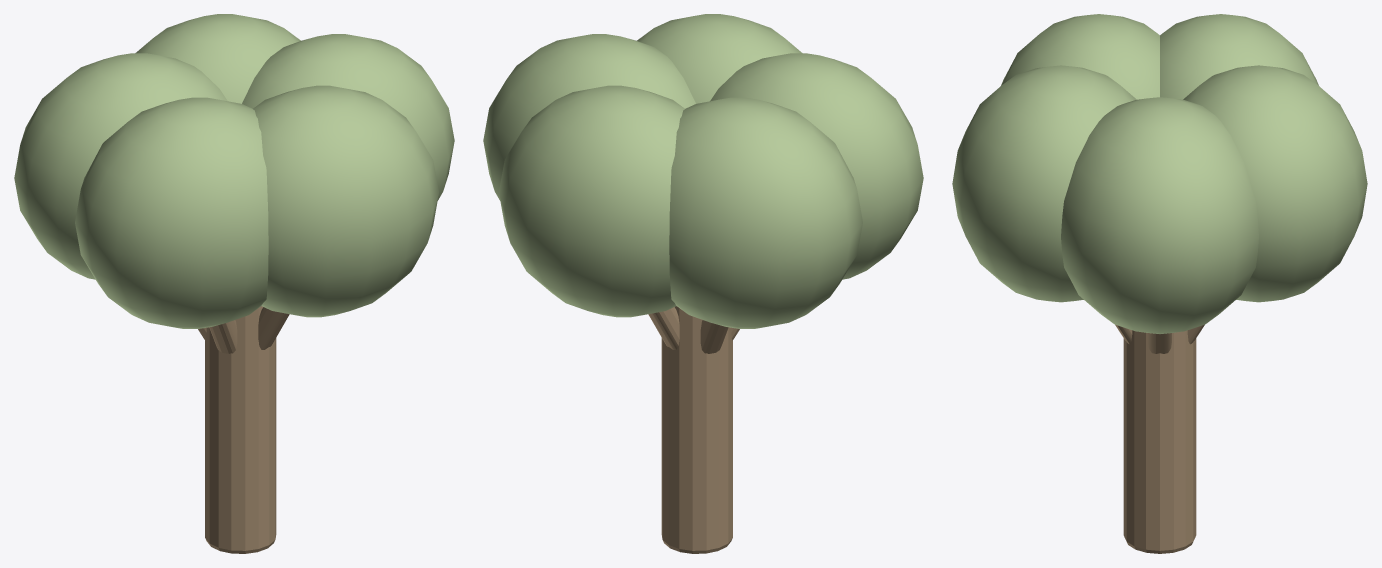
File: orchard_tree.glb
3 views of the same model, side by side, from view 1: azimuth 30°, elevation 25°; view 2: azimuth 150°, elevation 25°; view 3: azimuth 270°, elevation 25° (orthographic).
Visible parts, largest first — view 1: Surface_WorldRoof, Surface_WorldWood; view 2: Surface_WorldRoof, Surface_WorldWood; view 3: Surface_WorldRoof, Surface_WorldWood.
Boxes of the visible parts, x1=… form: Surface_WorldRoof: x1=14, y1=14, x2=454, y2=328; Surface_WorldWood: x1=198, y1=306, x2=289, y2=553; Surface_WorldRoof: x1=483, y1=14, x2=923, y2=328; Surface_WorldWood: x1=648, y1=306, x2=739, y2=553; Surface_WorldRoof: x1=952, y1=14, x2=1367, y2=333; Surface_WorldWood: x1=1115, y1=325, x2=1204, y2=553.
Size of the model in its own units: 1.85 by 2.19 by 1.72.
